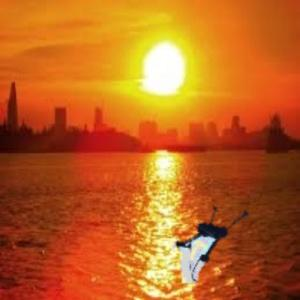drone: (171, 187, 266, 282)
